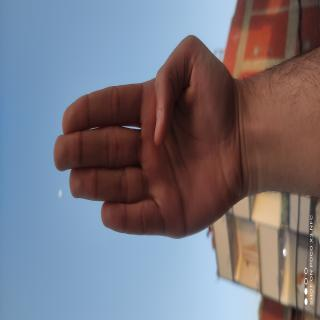KAAF: (35, 106, 131, 320)
